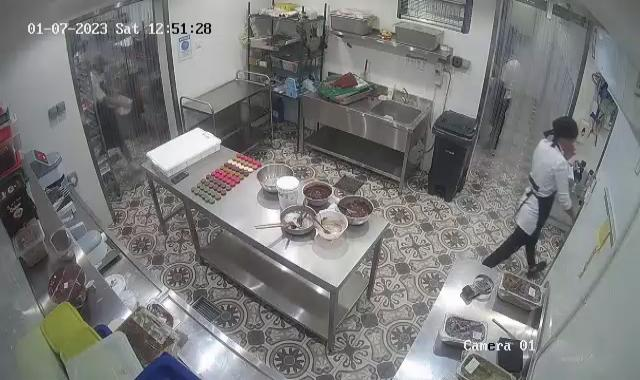no_hairnet: (554, 113, 578, 146)
